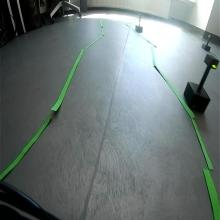green: (203, 52, 220, 70)
